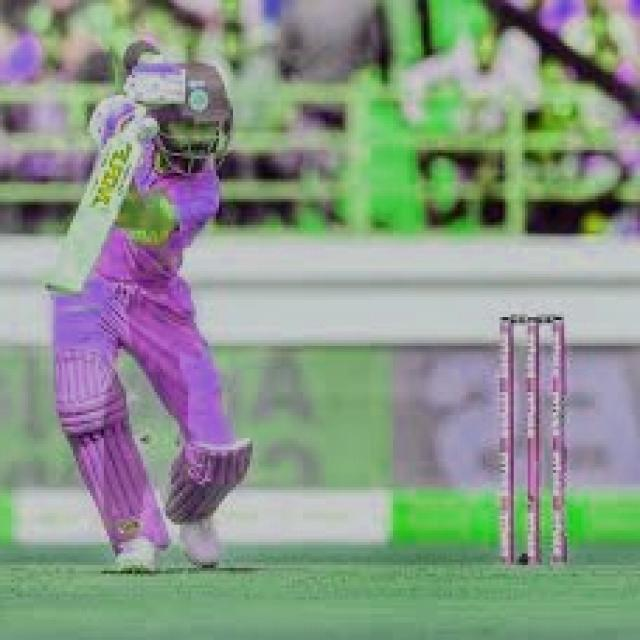bat: (22, 127, 154, 302)
toe: (39, 271, 77, 300)
